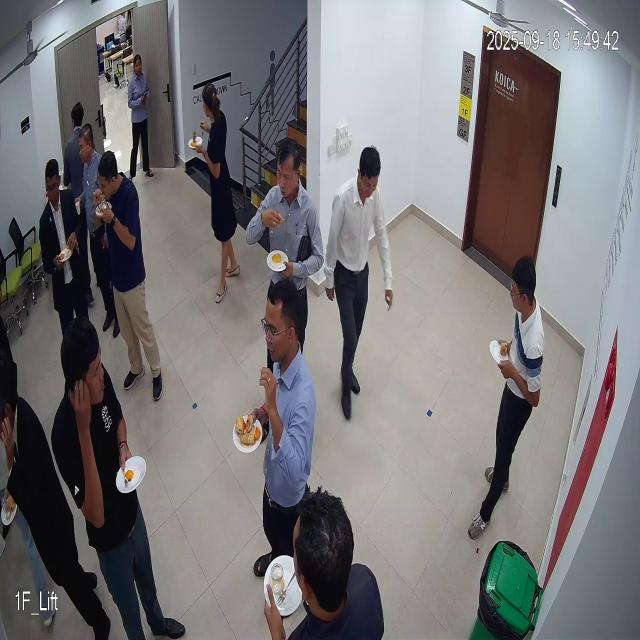face: (258, 272, 304, 369), (273, 136, 302, 206), (354, 146, 384, 202)
